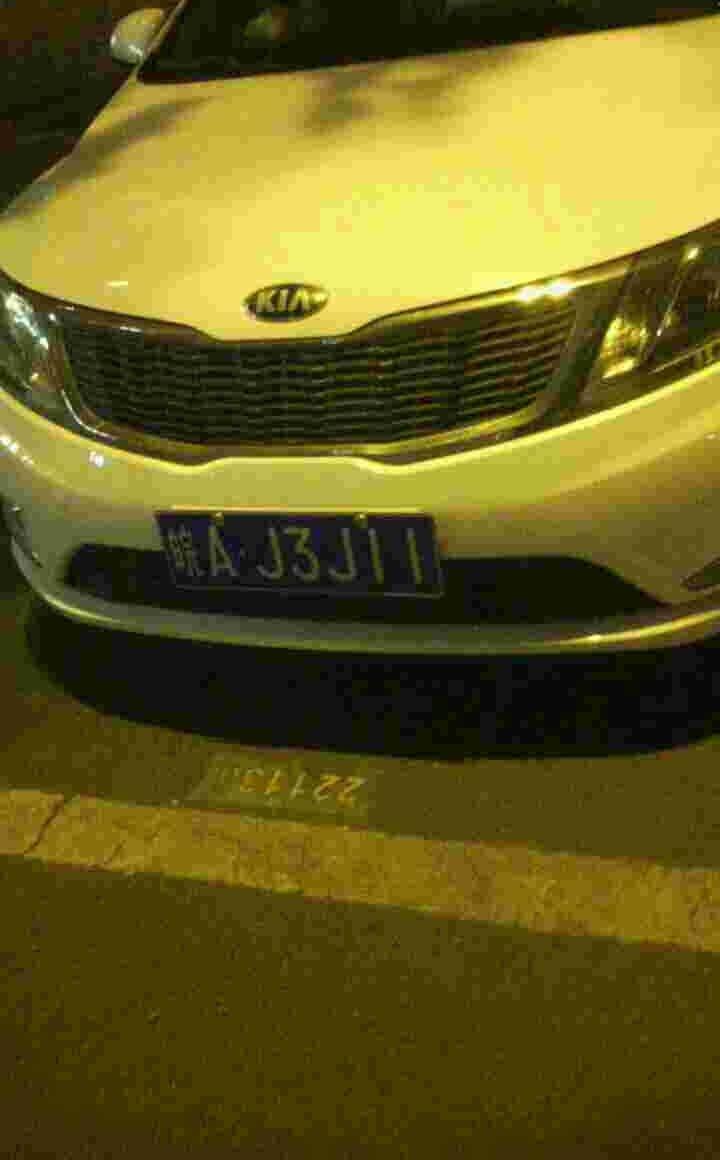license_plate: (165, 518, 456, 598)
